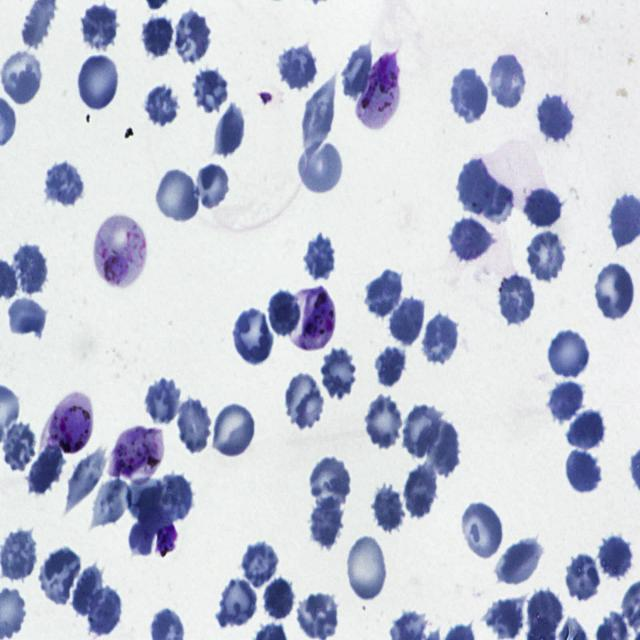difficult: (92, 215, 148, 290), (40, 390, 94, 456)
red blood cell: (457, 158, 514, 224), (345, 534, 388, 604), (460, 498, 506, 562), (63, 448, 107, 514), (301, 74, 337, 152), (592, 260, 637, 322), (37, 547, 82, 609), (211, 402, 258, 458), (155, 168, 201, 225), (308, 455, 354, 511), (284, 371, 327, 430), (363, 392, 405, 452), (76, 54, 120, 111), (524, 229, 569, 284), (232, 308, 275, 365), (420, 419, 462, 477), (402, 403, 445, 458), (299, 141, 342, 196), (488, 52, 528, 111), (172, 8, 212, 66), (546, 328, 592, 378), (0, 50, 42, 104), (450, 68, 490, 124), (498, 536, 544, 584), (403, 462, 441, 520), (363, 267, 406, 318), (176, 396, 213, 455), (496, 272, 536, 326), (154, 472, 196, 523), (422, 311, 460, 367), (307, 496, 345, 552), (481, 594, 527, 640), (450, 217, 495, 264), (42, 157, 85, 206), (537, 90, 576, 144), (215, 578, 257, 628), (78, 1, 120, 51), (318, 348, 358, 400), (90, 476, 130, 528), (71, 560, 105, 621), (296, 593, 339, 640), (387, 292, 425, 345), (278, 40, 318, 90), (0, 528, 37, 582), (266, 288, 304, 340), (144, 374, 182, 426), (212, 100, 246, 158), (526, 588, 564, 639), (598, 532, 635, 584), (25, 446, 65, 494), (522, 184, 564, 229), (12, 244, 47, 298), (193, 160, 230, 211), (240, 542, 279, 590), (88, 582, 124, 634), (340, 40, 372, 98), (6, 296, 50, 338), (0, 422, 36, 473), (304, 230, 339, 282), (566, 409, 608, 452), (565, 448, 603, 495), (371, 485, 406, 535), (374, 342, 410, 389), (193, 70, 233, 112), (566, 553, 600, 602), (546, 381, 584, 424), (143, 83, 180, 127), (260, 576, 295, 622), (142, 14, 172, 59)
trophozoite: (354, 48, 402, 131), (110, 425, 164, 485), (290, 285, 336, 351)
